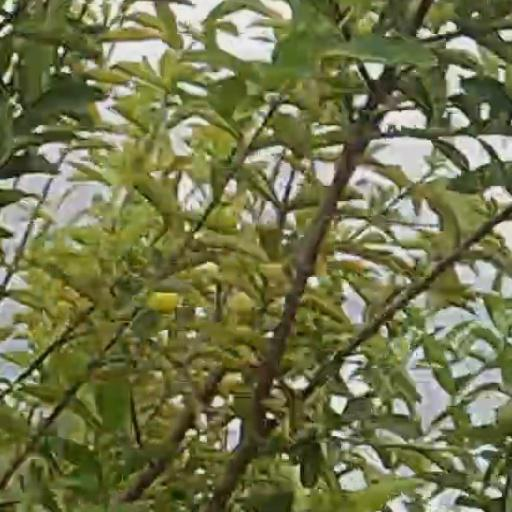acerola_verde: (248, 480, 292, 510), (148, 294, 180, 317)
